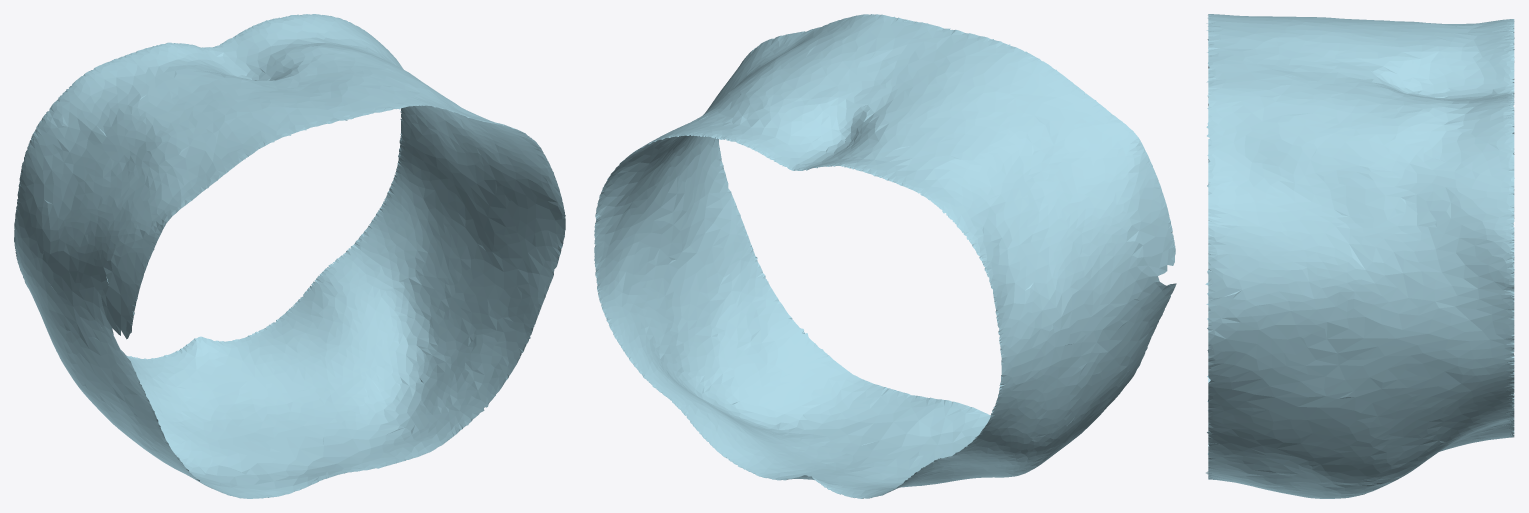
The model's file is skin.obj.
3 renders of one model, left to right at view 1: azimuth 30°, elevation 25°; view 2: azimuth 150°, elevation 25°; view 3: azimuth 270°, elevation 25°, orthographic. The views are drawn at different scales.
Visible parts, largest first — view 1: grp1; view 2: grp1; view 3: grp1.
Part boxes in pixels (x1=…): grp1: x1=14, y1=14, x2=565, y2=498; grp1: x1=594, y1=14, x2=1176, y2=498; grp1: x1=1205, y1=14, x2=1514, y2=498.
Bounding box in the file's own units: 341 × 274 × 194.
